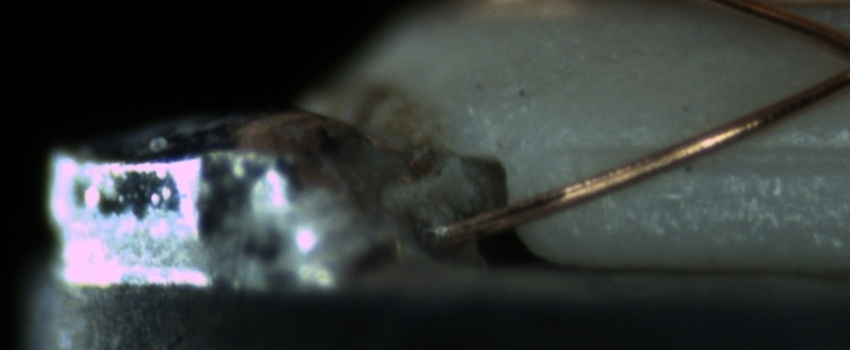CL: (829, 31, 850, 94)
DL: (548, 117, 847, 184)
